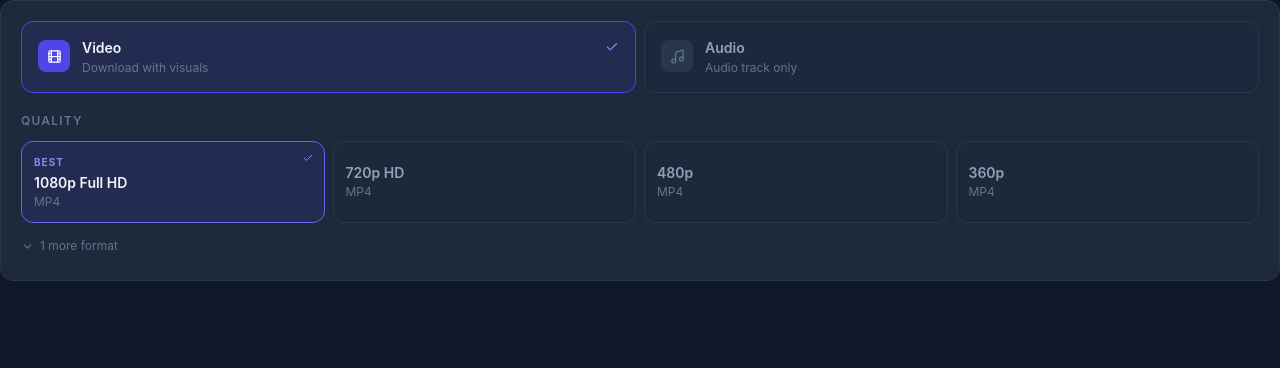
Test case: FormatSelector — advanced toggle › collapses back when the toggle is clicked a second time
The image size is (1280, 368).
Click the button "1 more format".
click(69, 246)  # box [21,238,118,254]
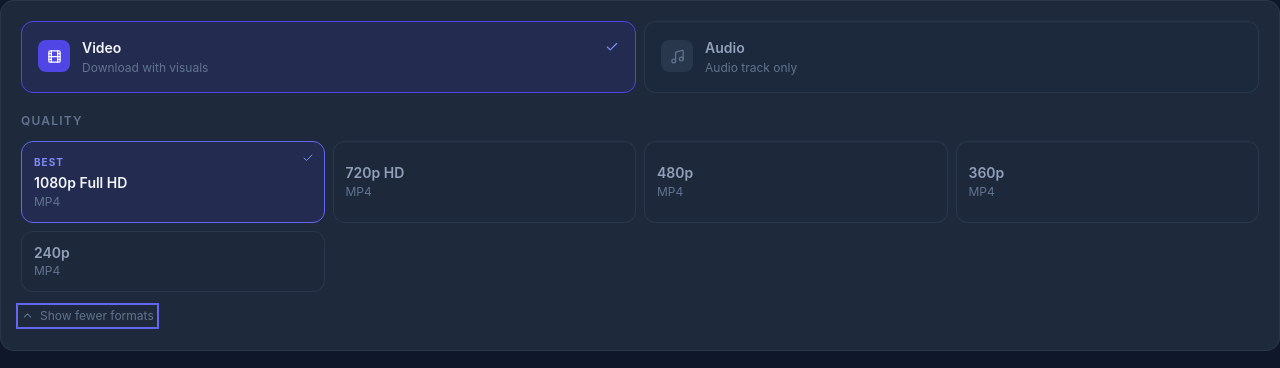
Click the button "Show fewer formats".
click(87, 316)  # box [21,308,154,324]
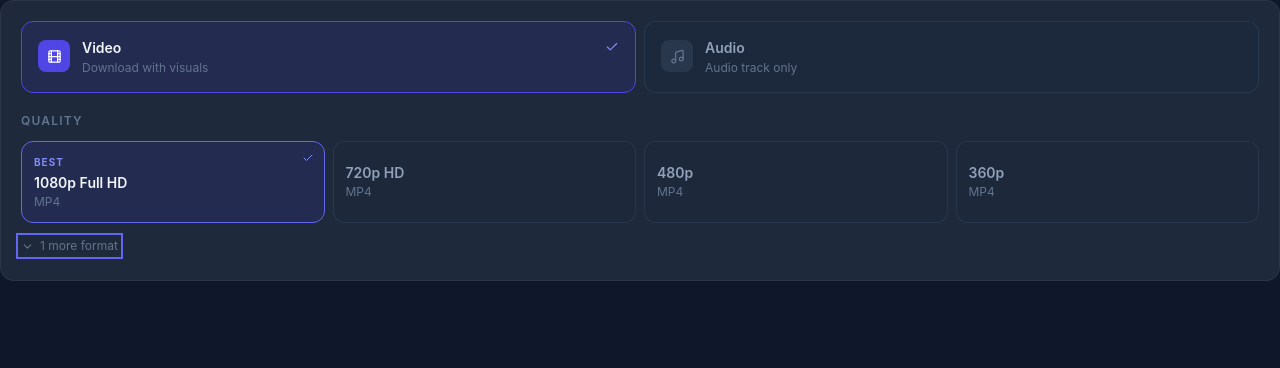
Expected: the radio button labelled "240p" is gone
